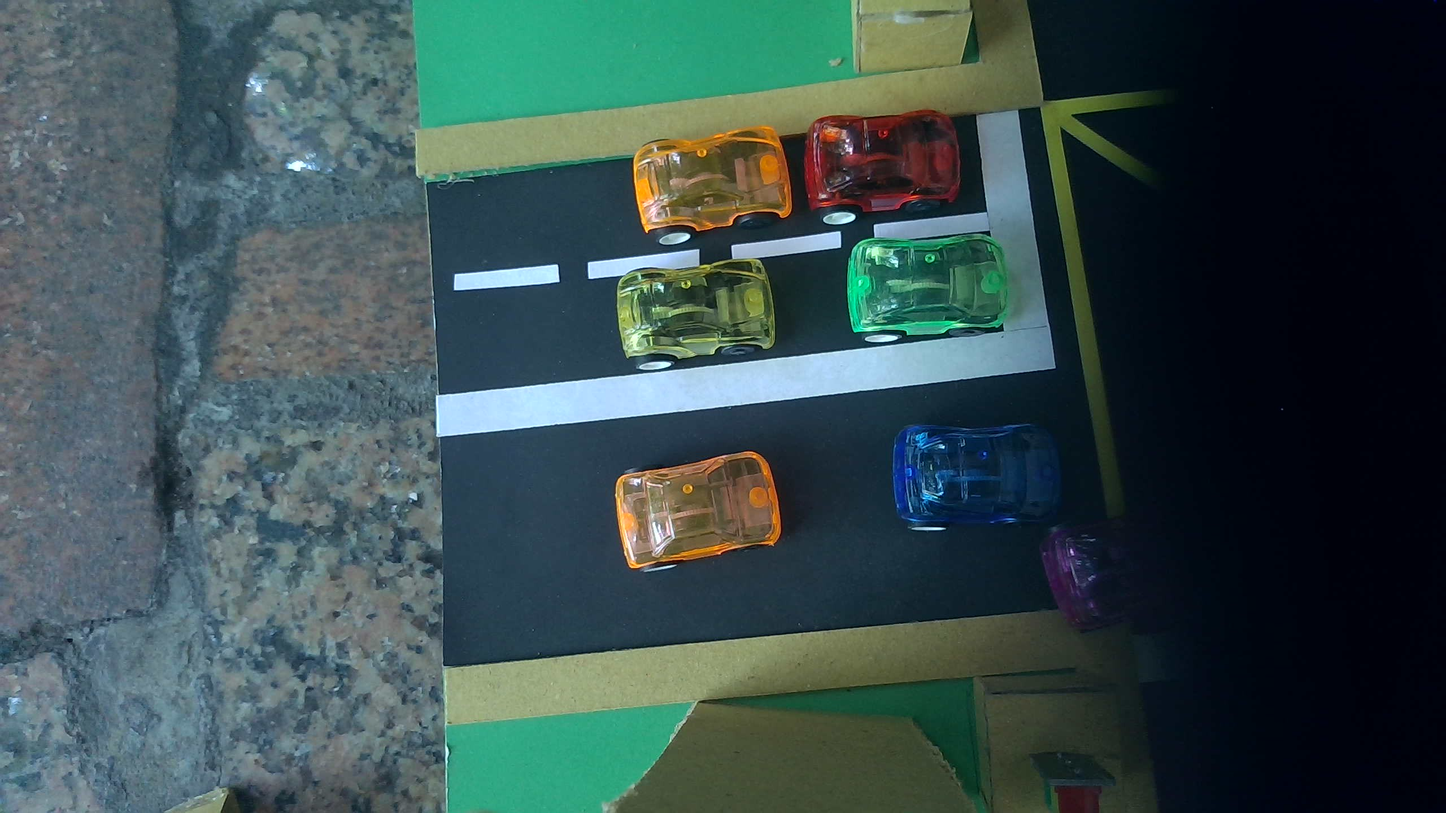Mobil hijau: (847, 234, 1009, 343)
Mobil kuning: (616, 259, 777, 370)
Mobil merah: (804, 110, 960, 225)
Mobil orange: (633, 125, 792, 245)
